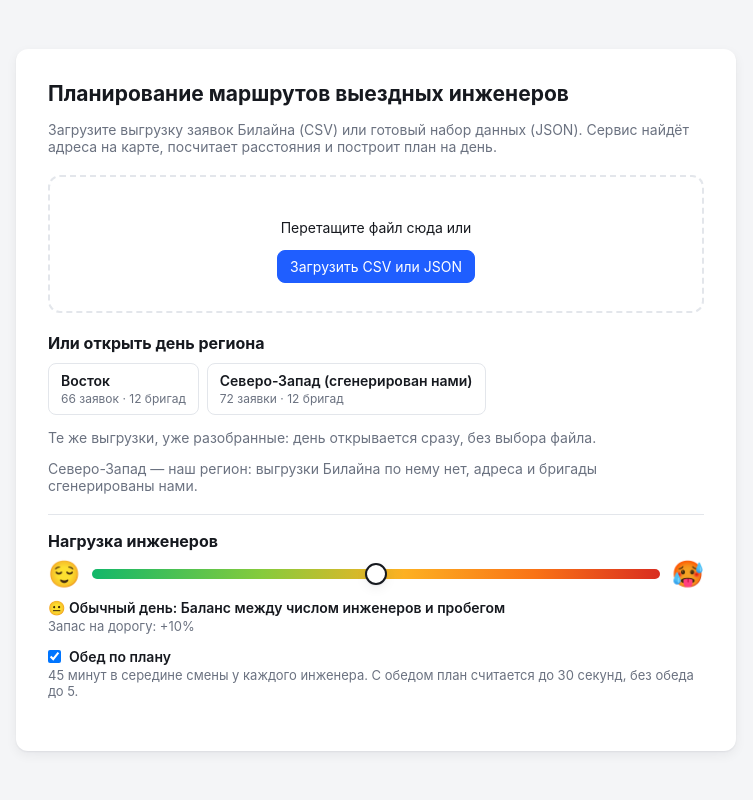
UploadScreen › opens a prepared region by one click and keeps the file picker in its place
Expected: the button "Северо-Запад (сгенерирован нами) 72 заявки · 12 бригад" is shown, [207,363,486,415]
Expected: the element with test id "file-input" is shown, [48,175,704,313]
Step 1. Click the button "Восток 66 заявок · 12 бригад" → click(123, 389), box [48,363,199,415]
(page scrolled)
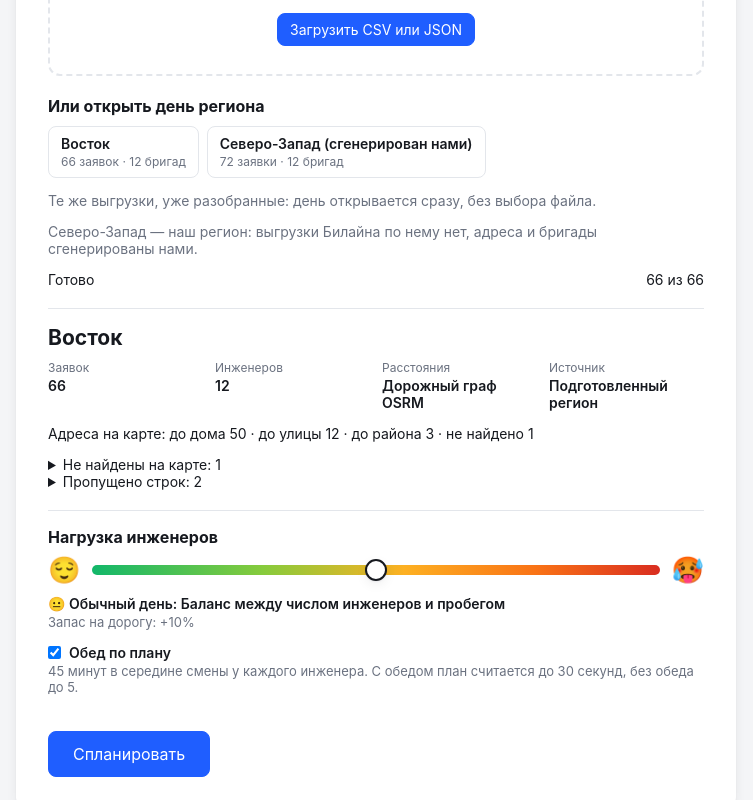
Result: the heading "Восток" is shown at [48,325,122,350]
Result: the text "Подготовленный регион" is shown at [549,376,668,410]
